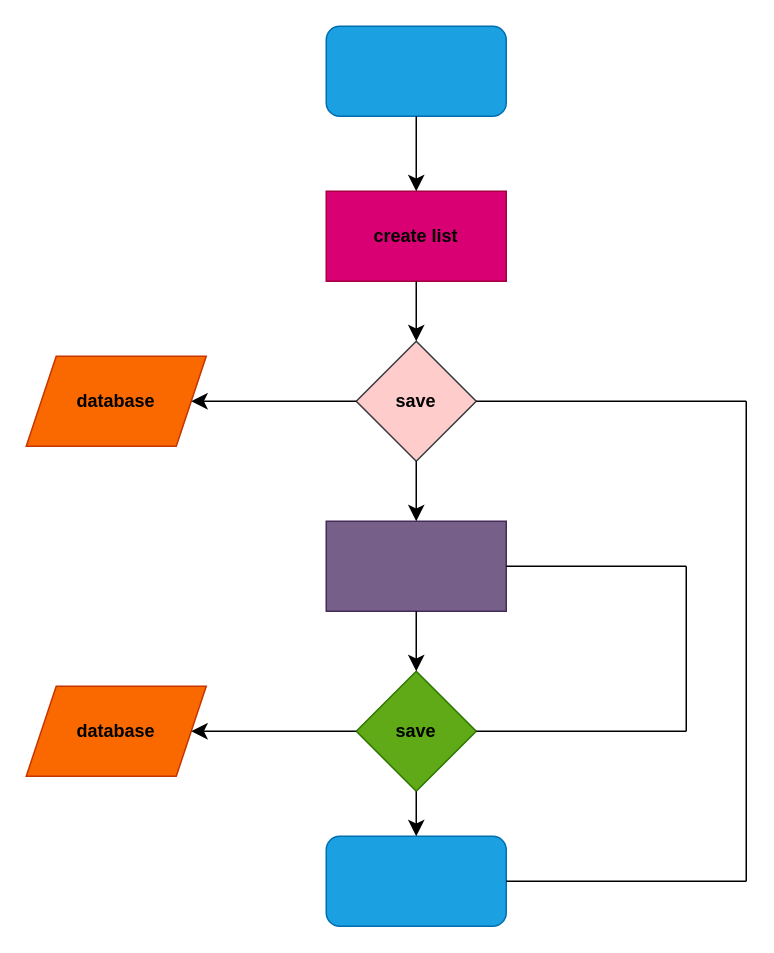
Image size: 774x953. Some labels were removed from this diagram. The box of each missing label's shape, as (x1, y1, x2, y2) in pixels:
create link: (325, 520, 506, 611)
end: (325, 835, 506, 926)
start: (325, 25, 506, 116)
